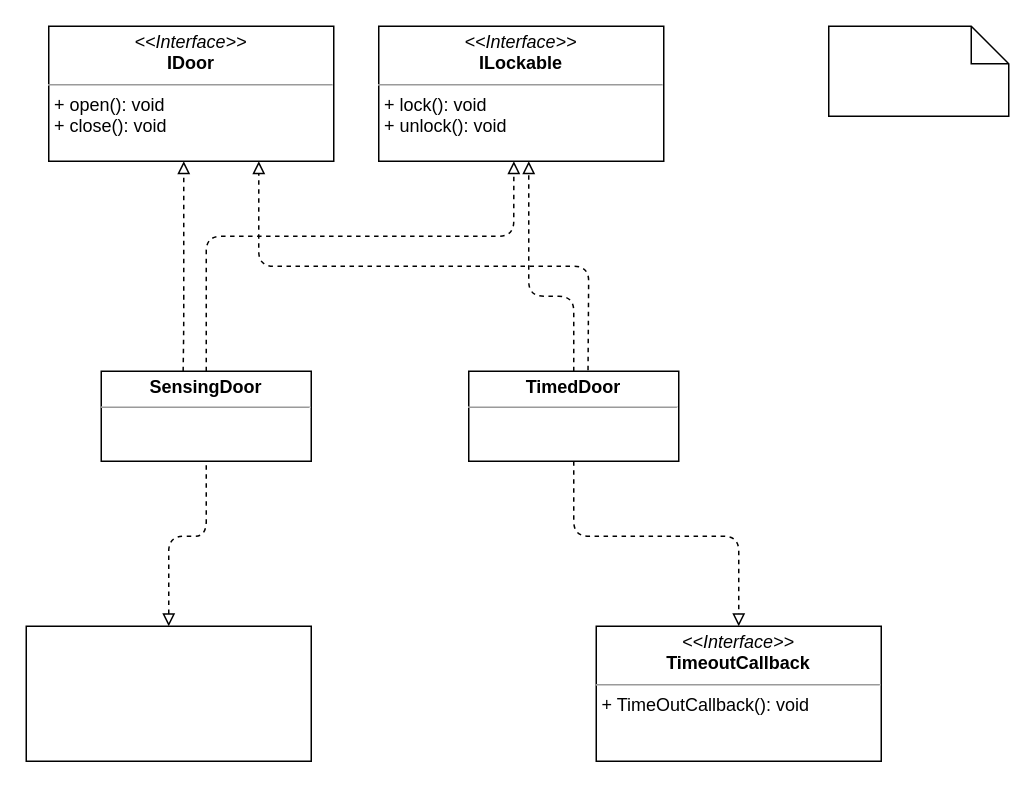
This 1035x788 diagram has some shape labels left out. Here are the shapes that lost their labels. From the top down, the centre of each, then its label:
At (x=918, y=70): "Can be reused".
At (x=168, y=693): "<<Interface>> ProximityCallback + proximityCallback(): void".
